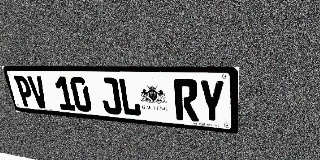0: (69, 77, 92, 112)
1: (53, 76, 76, 111)
J: (98, 77, 122, 115)
L: (117, 78, 142, 117)
P: (13, 75, 35, 107)
R: (173, 79, 199, 122)
V: (27, 76, 49, 109)
Y: (199, 80, 225, 124)
